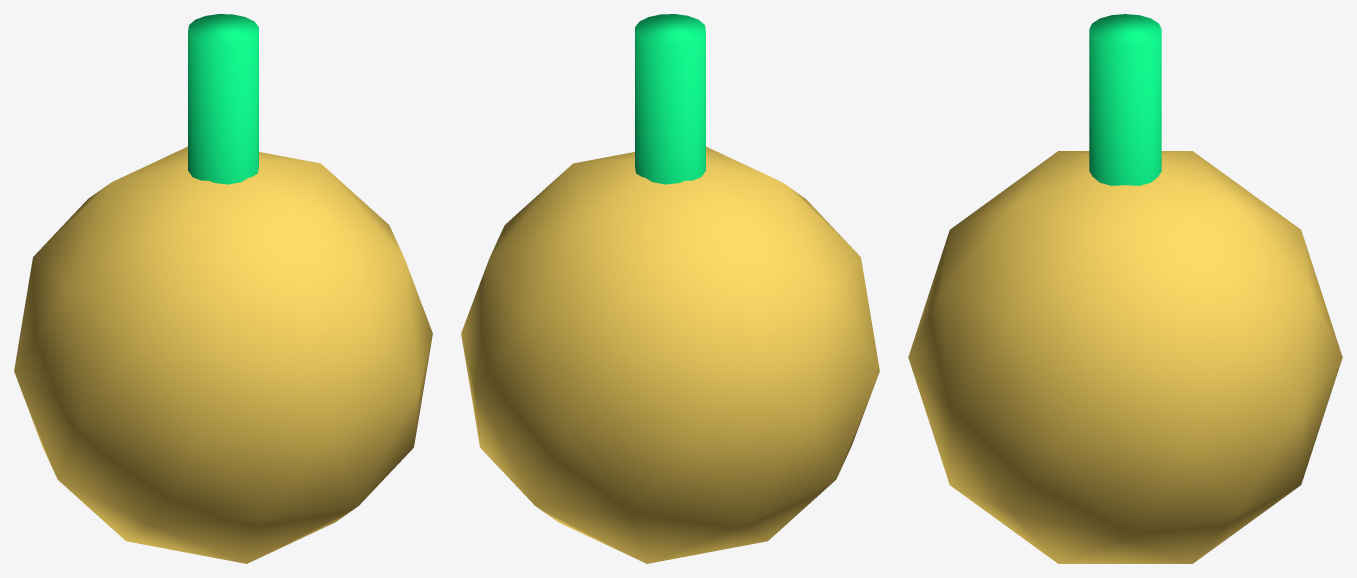
File: FlowerBottomBall.glb
The picture shows the model from 3 angles, left to right: view 1: azimuth 30°, elevation 25°; view 2: azimuth 150°, elevation 25°; view 3: azimuth 270°, elevation 25°; orthographic projection.
Parts seen in each view (by area): view 1: flowerBall; view 2: flowerBall; view 3: flowerBall.
Part boxes in pixels (<box>): flowerBall: <box>14,14,432,563</box>; flowerBall: <box>461,14,879,563</box>; flowerBall: <box>908,14,1342,563</box>.
Size of the model in its own units: 1.14 by 1.6 by 1.2.
